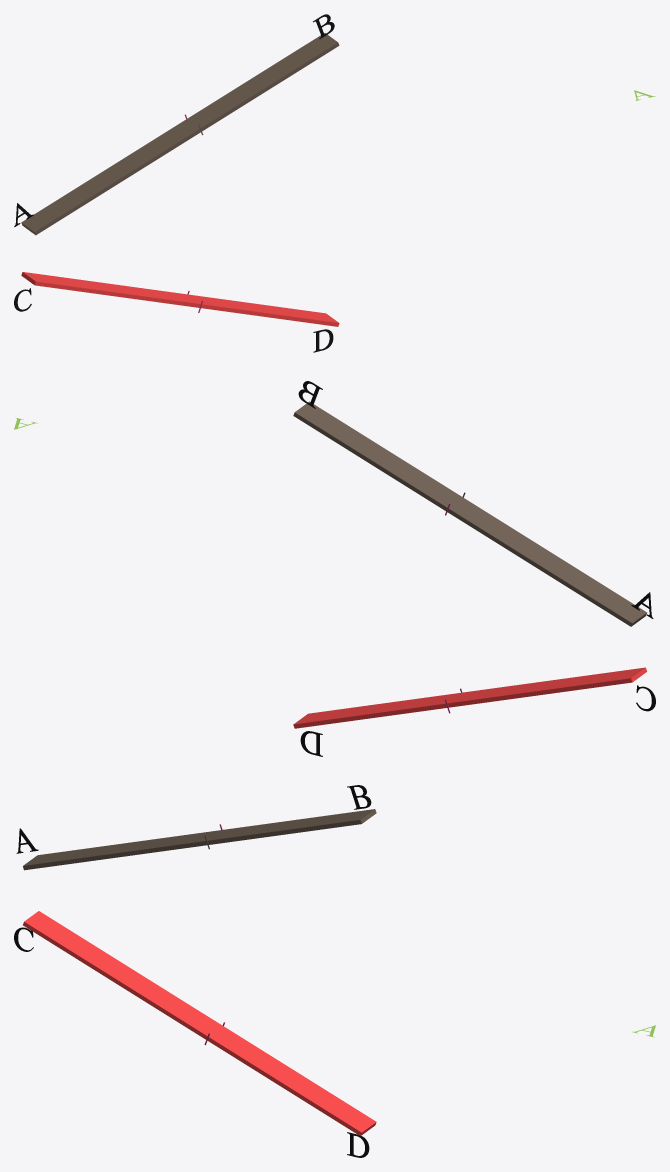
Rendered from Nashat3.glb.
3 views of the same model, one above another, from view 1: azimuth 30°, elevation 25°; view 2: azimuth 150°, elevation 25°; view 3: azimuth 330°, elevation 25° (orthographic). The views are drawn at different scales.
Parts seen in each view (by area): view 1: Box001, Box004; view 2: Box001, Box004; view 3: Box004, Box001.
Part boxes in pixels (box(x1,y1,x2,y2)): Box001: box(21, 33, 339, 235); Box004: box(21, 272, 339, 326); Box001: box(293, 401, 647, 626); Box004: box(293, 667, 646, 728); Box004: box(23, 911, 376, 1135); Box001: box(23, 809, 376, 870).
Size of the model in its own units: 1.32 by 0.6927 by 0.1512.
